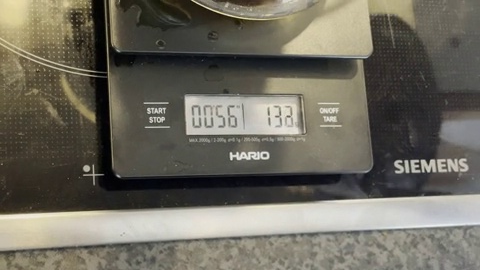display: (184, 94, 303, 134)
